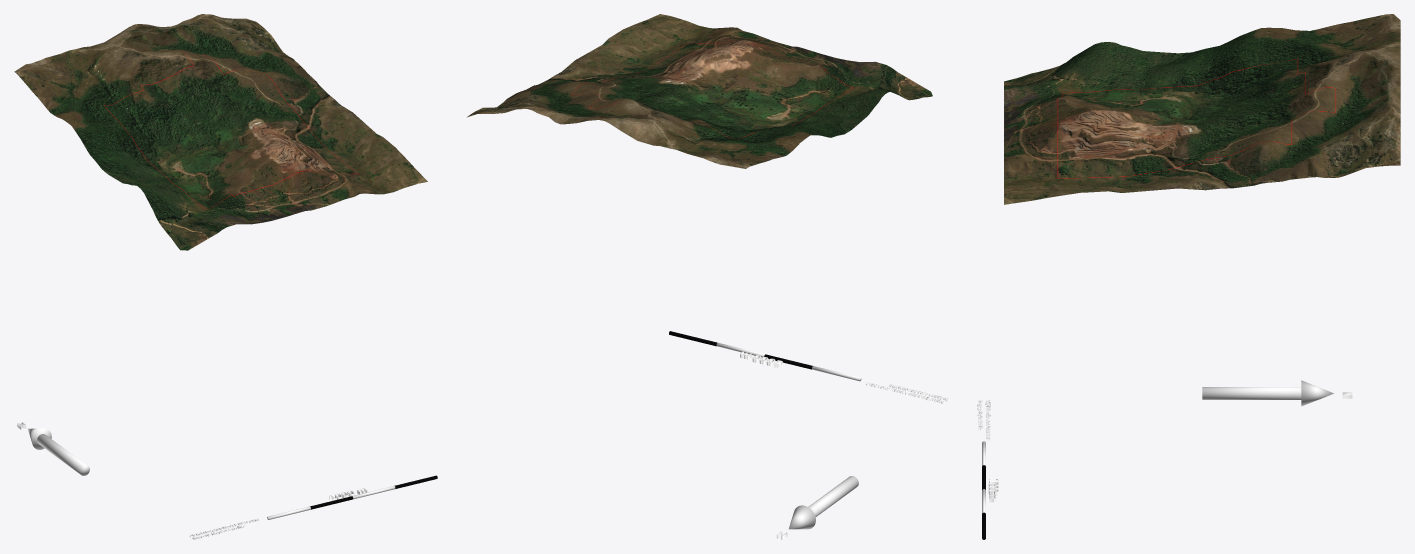
Rendered from ironore_3d_modeling_qg_brazil_-_ouro_preto_mg.glb.
3 views of the same model, side by side, from view 1: azimuth 30°, elevation 25°; view 2: azimuth 150°, elevation 25°; view 3: azimuth 270°, elevation 25° (orthographic). The views are drawn at different scales.
Visible parts, largest first — view 1: TerrainNode_0, Adornments_1; view 2: TerrainNode_0, Adornments_1; view 3: TerrainNode_0, Adornments_1.
Boxes of the visible parts, x1,y1,x2,y2 form: TerrainNode_0: (14, 14, 427, 250); Adornments_1: (17, 422, 437, 539); TerrainNode_0: (467, 14, 932, 168); Adornments_1: (669, 331, 948, 539); TerrainNode_0: (1004, 14, 1400, 204); Adornments_1: (977, 380, 1352, 539).
Size of the model in its own units: 0.9947 by 1.28 by 1.18.
2 materials, 1 textured.
